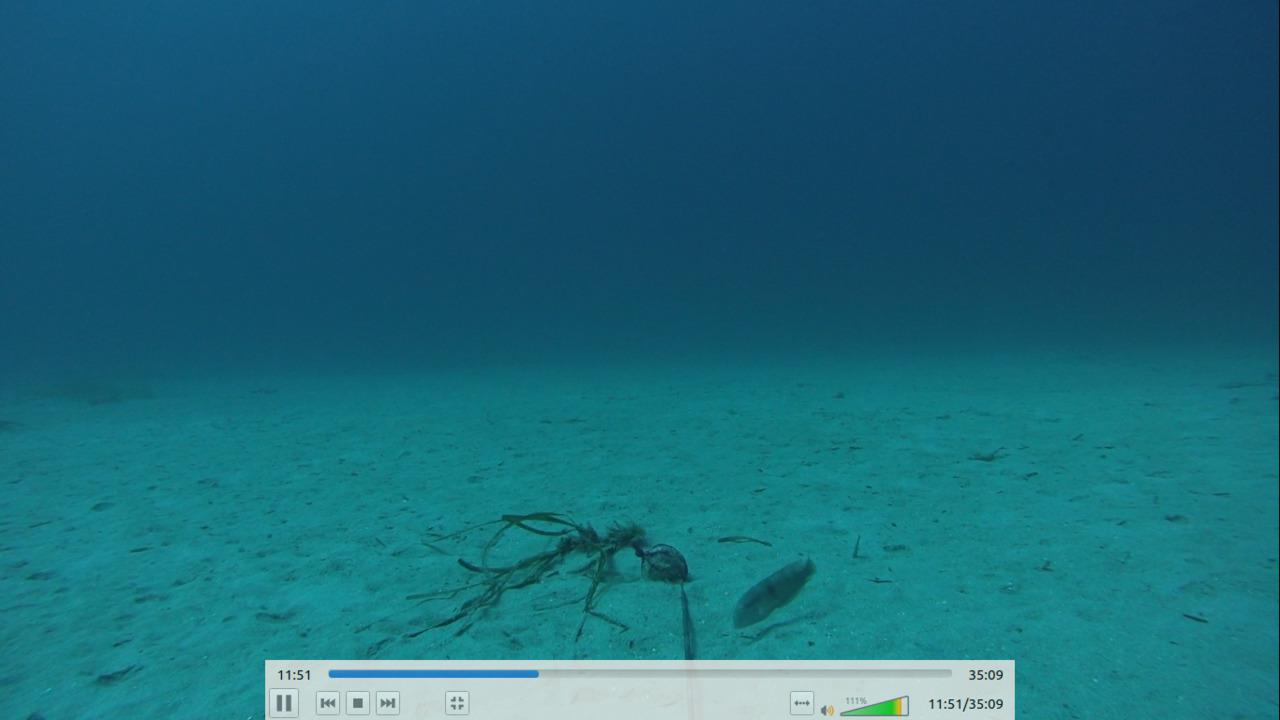raor: (728, 545, 820, 632)
